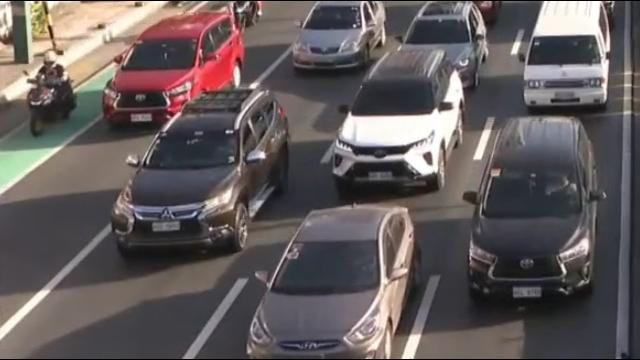car: (109, 92, 285, 258), (242, 208, 419, 360), (462, 116, 601, 307), (325, 51, 460, 190), (105, 15, 244, 129), (402, 1, 488, 92), (293, 2, 382, 77)
motorcycle: (26, 50, 77, 138), (226, 0, 264, 31)
van: (518, 0, 613, 111)
